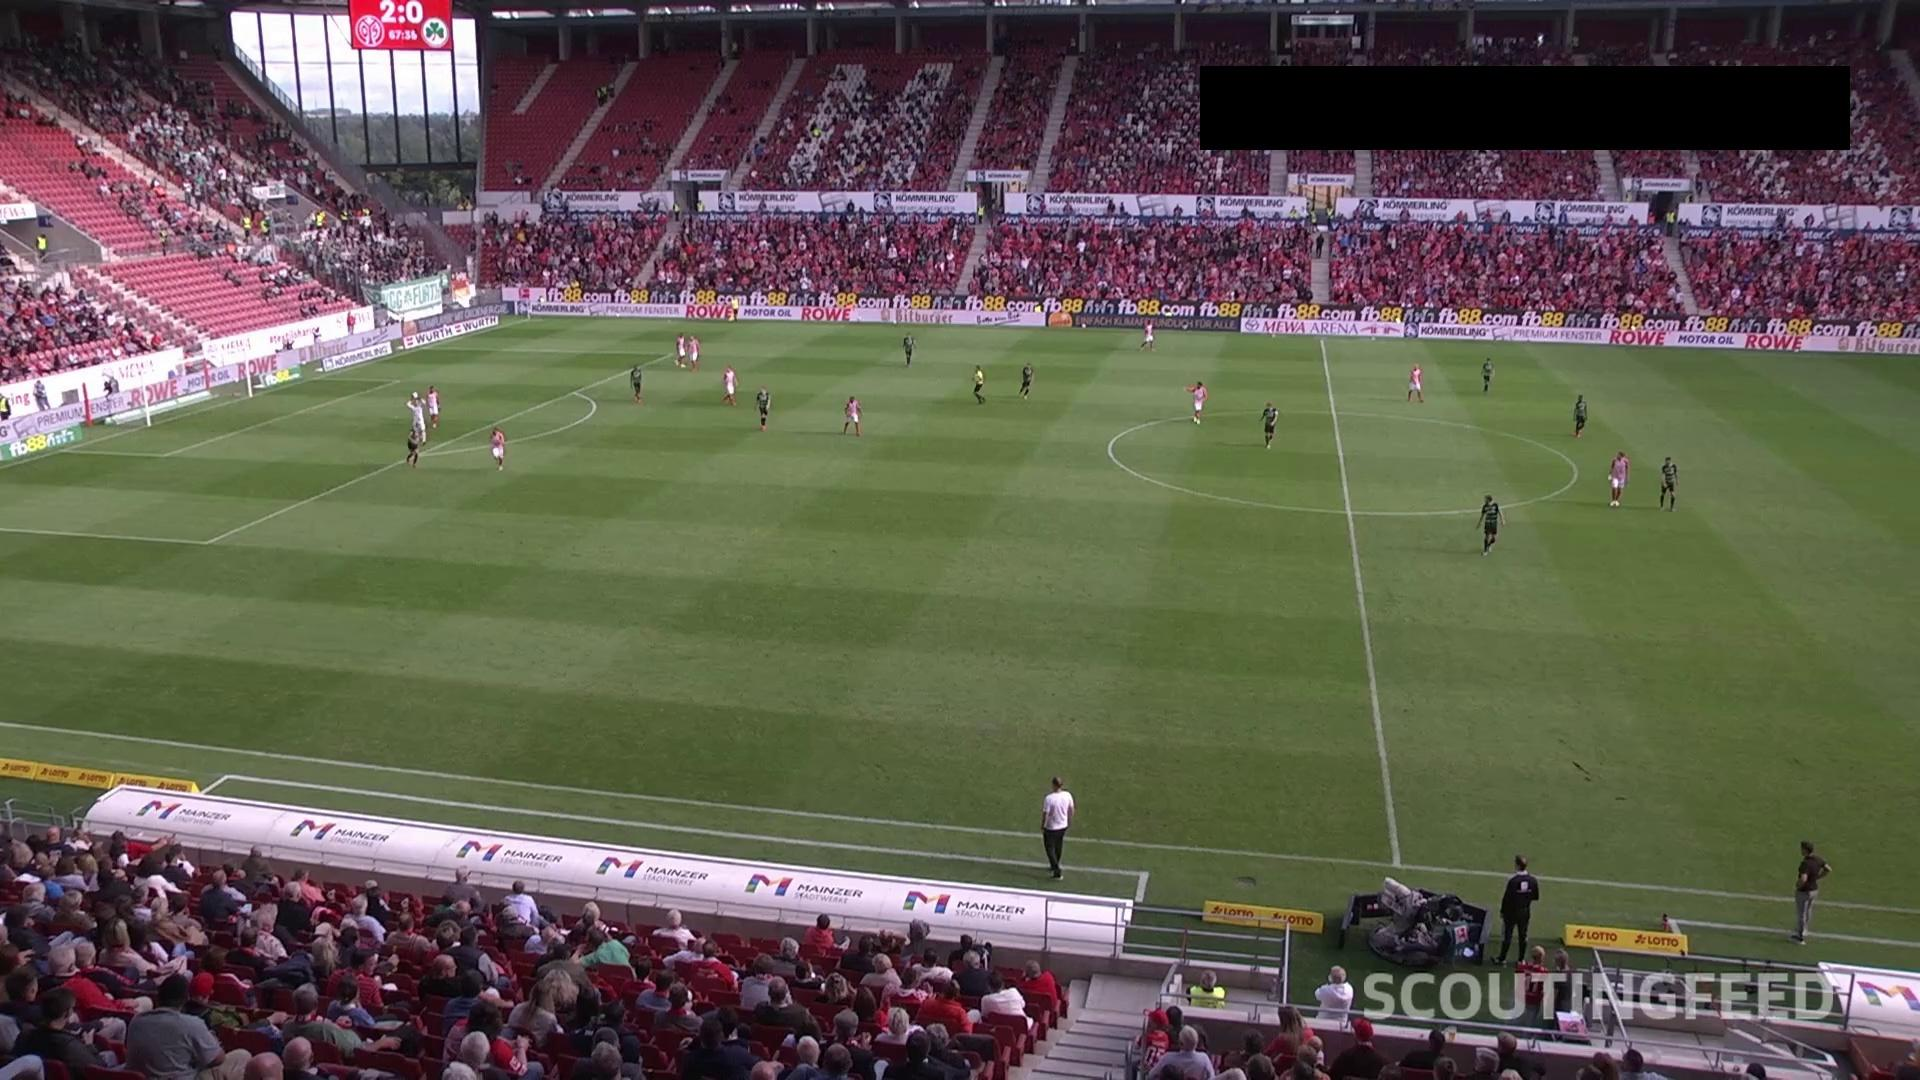Location-of-ball: (402, 386, 430, 405)
